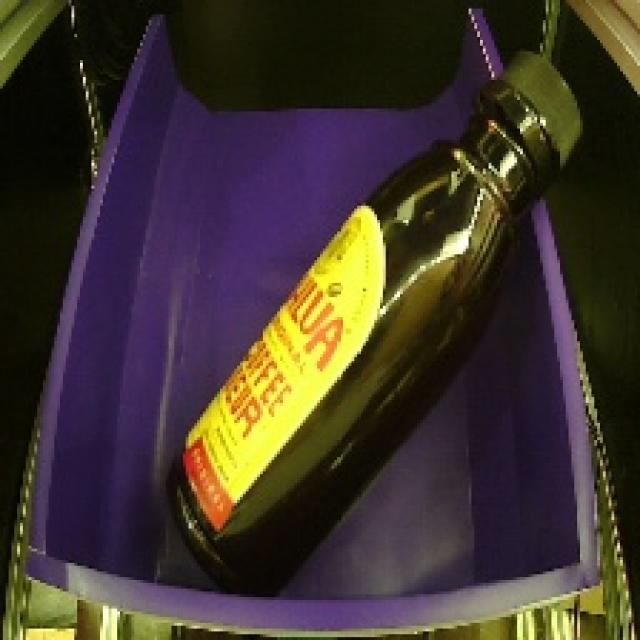plastic: (151, 42, 586, 606)
